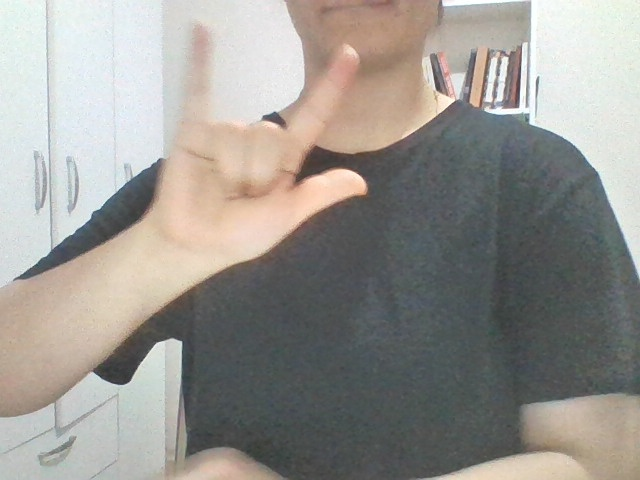I Love You: (61, 6, 423, 297)
